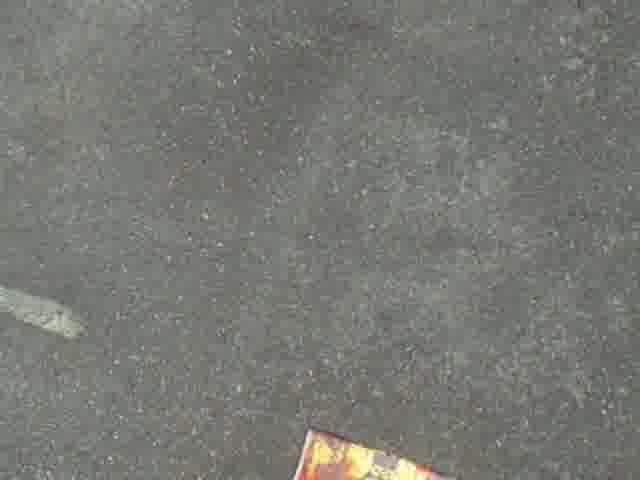fire-poster: (292, 427, 459, 480)
